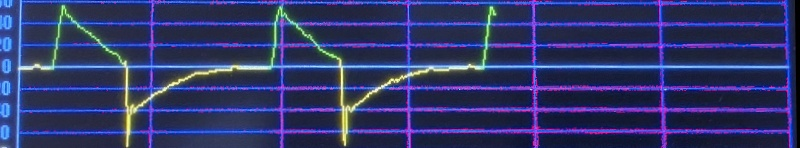normal_flow: (13, 2, 499, 148)
